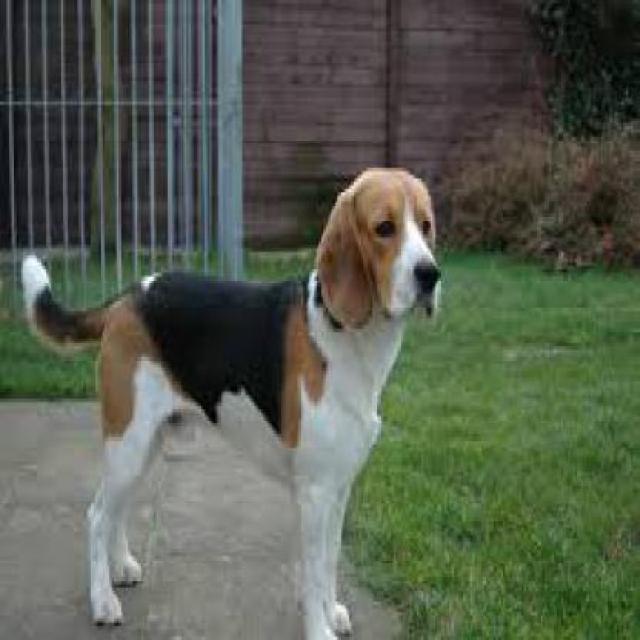Dog: (17, 168, 448, 637)
